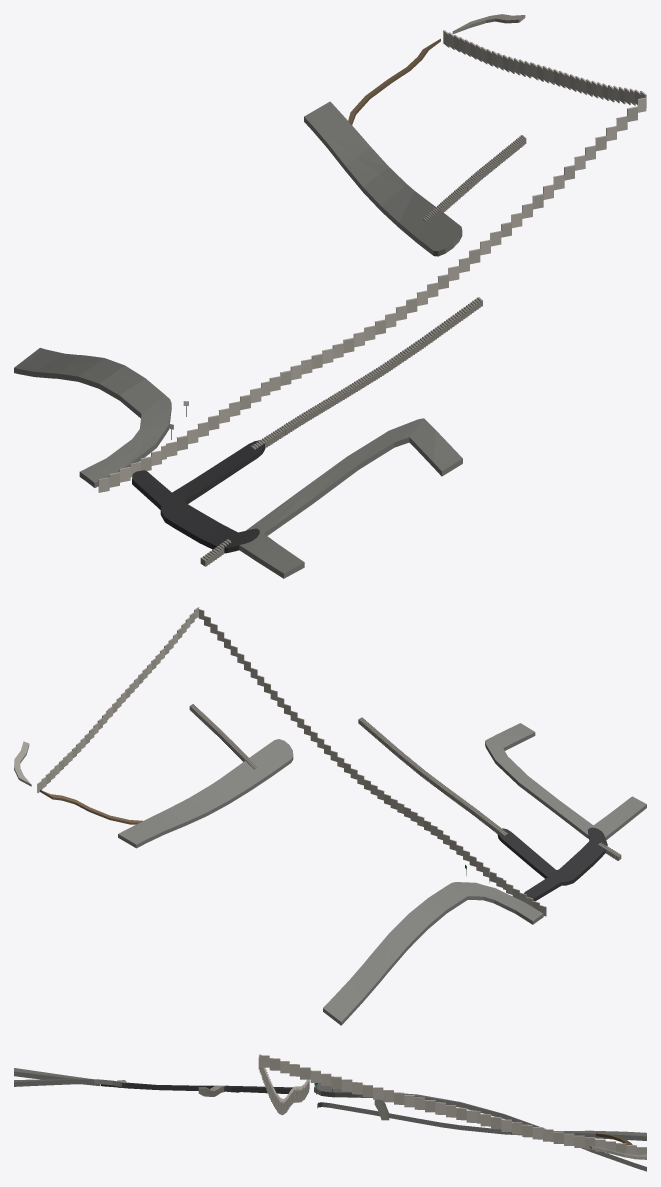
3 views of the same model, one above another, from view 1: azimuth 30°, elevation 25°; view 2: azimuth 150°, elevation 25°; view 3: azimuth 270°, elevation 25° (orthographic). The views are drawn at different scales.
Bounding box in the file's own units: 140 × 76.35 × 146.
